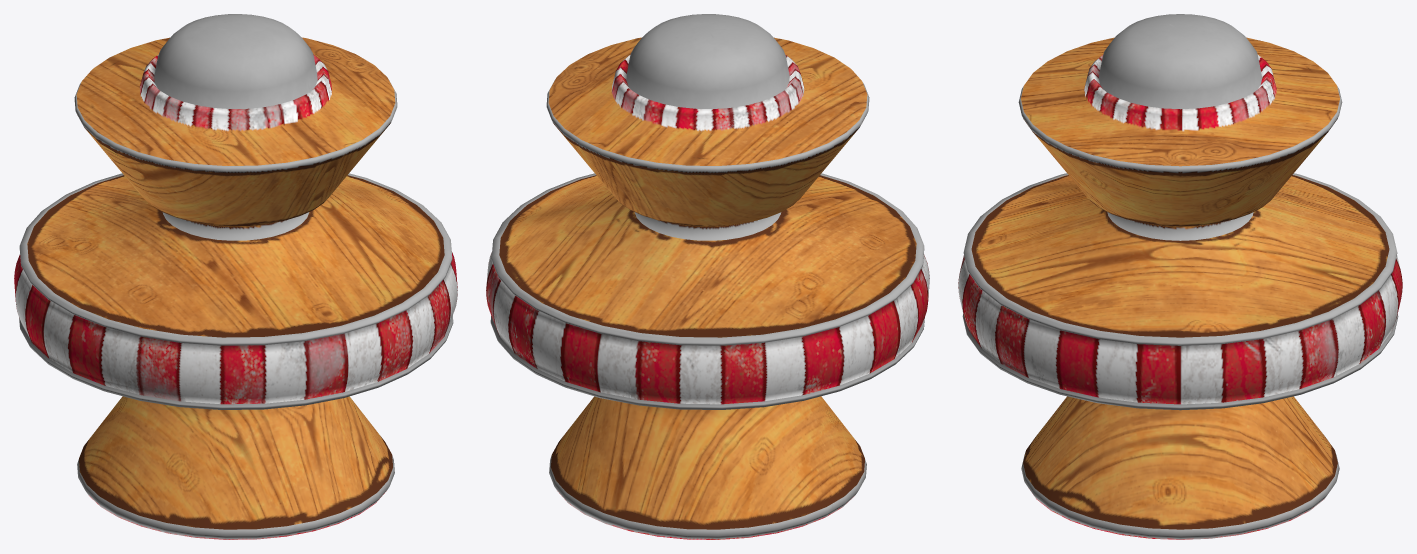
File: bumper.fbx
3 renders of one model, left to right at view 1: azimuth 30°, elevation 25°; view 2: azimuth 150°, elevation 25°; view 3: azimuth 270°, elevation 25°, orthographic.
Visible parts, largest first — view 1: Bumper; view 2: Bumper; view 3: Bumper.
Boxes of the visible parts, left/top/right/bottom form: Bumper: left=14, top=14, right=457, bottom=539; Bumper: left=486, top=14, right=929, bottom=539; Bumper: left=958, top=14, right=1402, bottom=539.
Size of the model in its own units: 84.53 by 93.12 by 84.53.
1 material, 1 textured.
